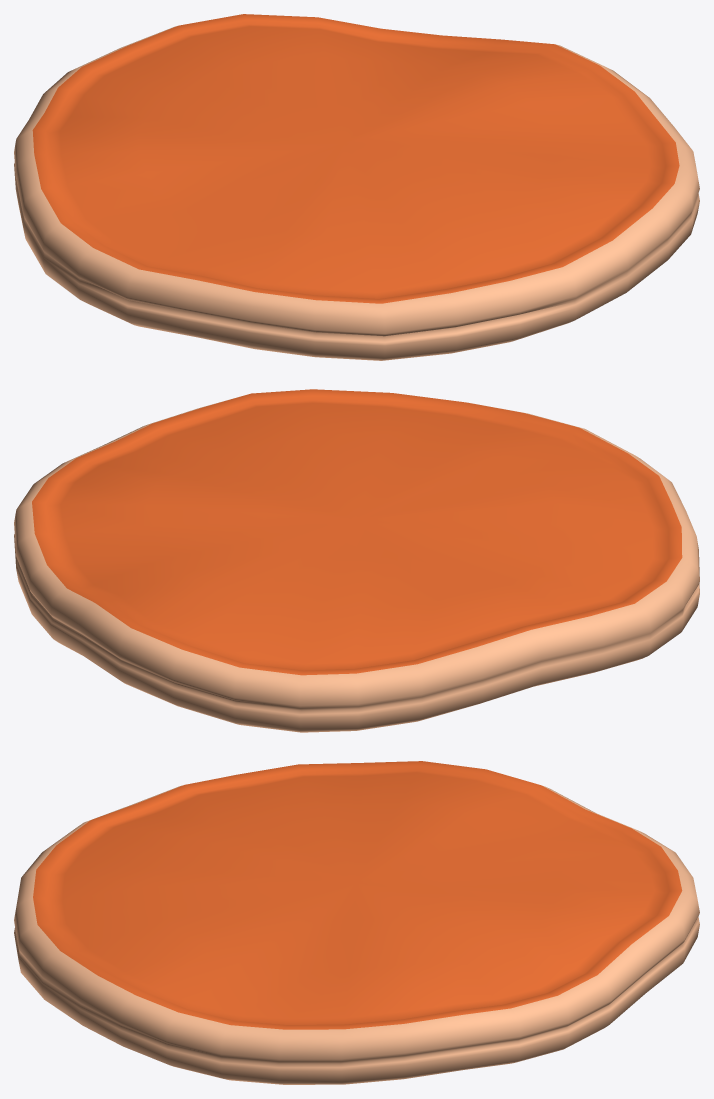
Rendered from Pancake.FBX.
3 renders of one model, top to bottom at view 1: azimuth 30°, elevation 25°; view 2: azimuth 150°, elevation 25°; view 3: azimuth 270°, elevation 25°, orthographic. The views are drawn at different scales.
Visible parts, largest first — view 1: Cylinder067; view 2: Cylinder067; view 3: Cylinder067.
Part boxes in pixels (x1,y1,x2,y2): Cylinder067: (14, 14, 699, 360); Cylinder067: (14, 389, 699, 732); Cylinder067: (14, 761, 699, 1084).
Size of the model in its own units: 755 by 99.2 by 774.
